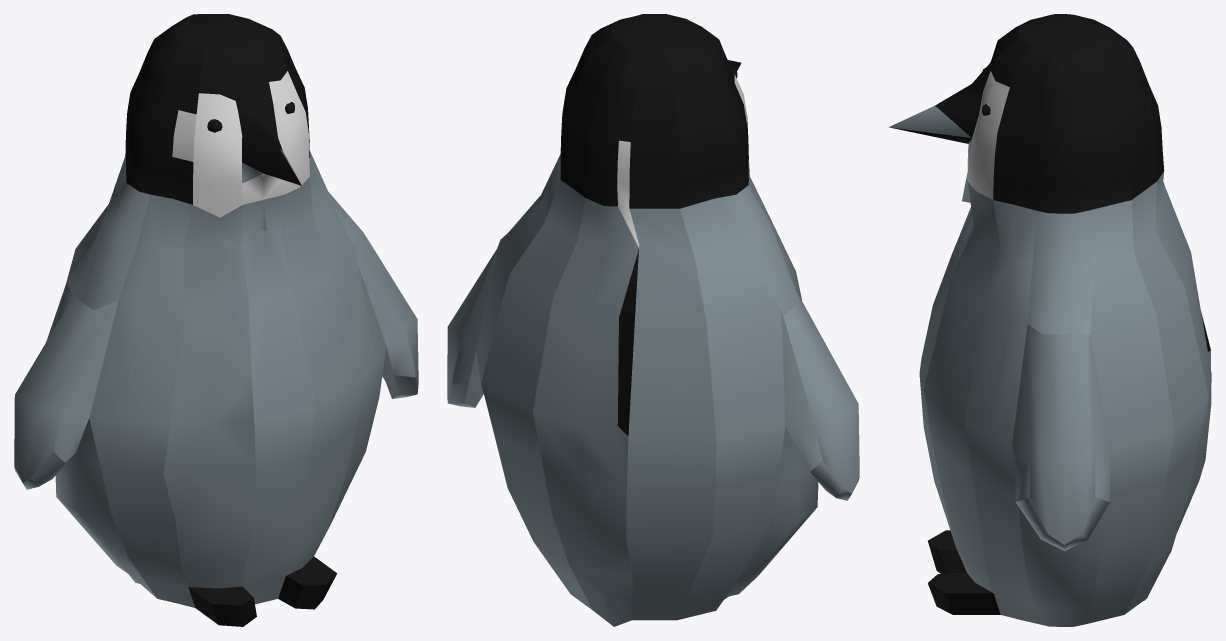
File: Penguin.fbx
3 views of the same model, side by side, from view 1: azimuth 30°, elevation 25°; view 2: azimuth 150°, elevation 25°; view 3: azimuth 270°, elevation 25° (orthographic). The views are drawn at different scales.
Parts seen in each view (by area): view 1: pCylinder1; view 2: pCylinder1; view 3: pCylinder1.
Part boxes in pixels (x1,y1,x2,y2): pCylinder1: [14, 14, 418, 626]; pCylinder1: [447, 14, 859, 626]; pCylinder1: [889, 14, 1211, 626].
Size of the model in its own units: 51.91 by 71.64 by 36.39.
